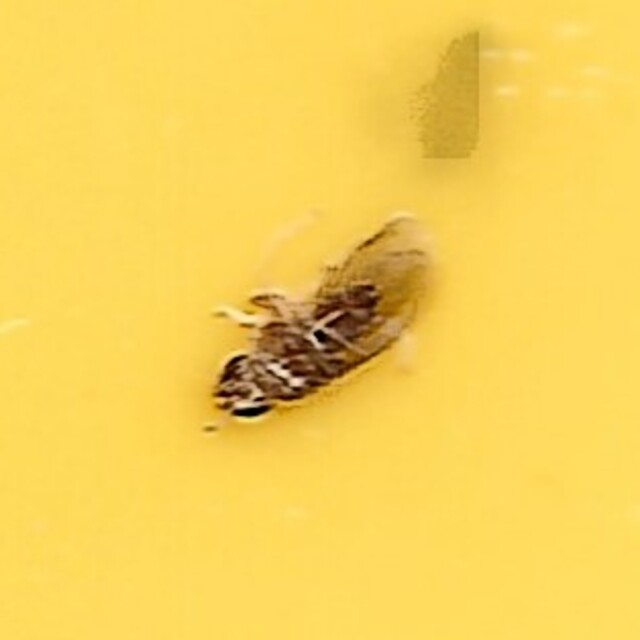Brachycera: (204, 211, 436, 429)
